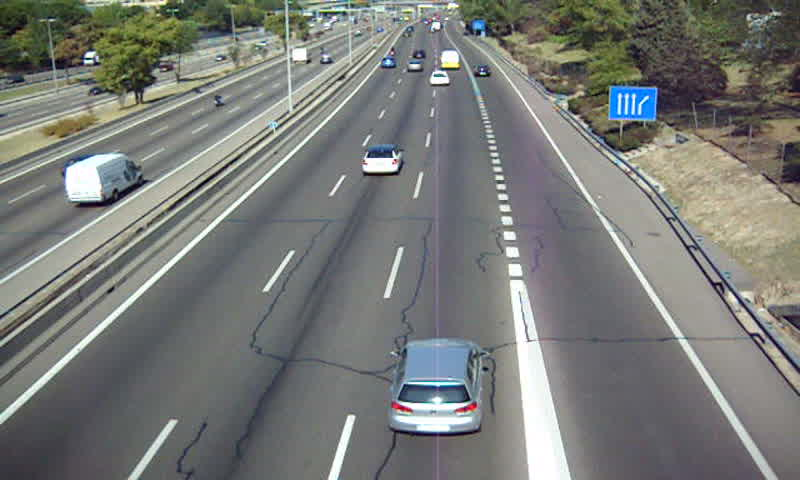car: (389, 341, 483, 432), (361, 145, 404, 174), (429, 72, 452, 85), (472, 66, 491, 79)
